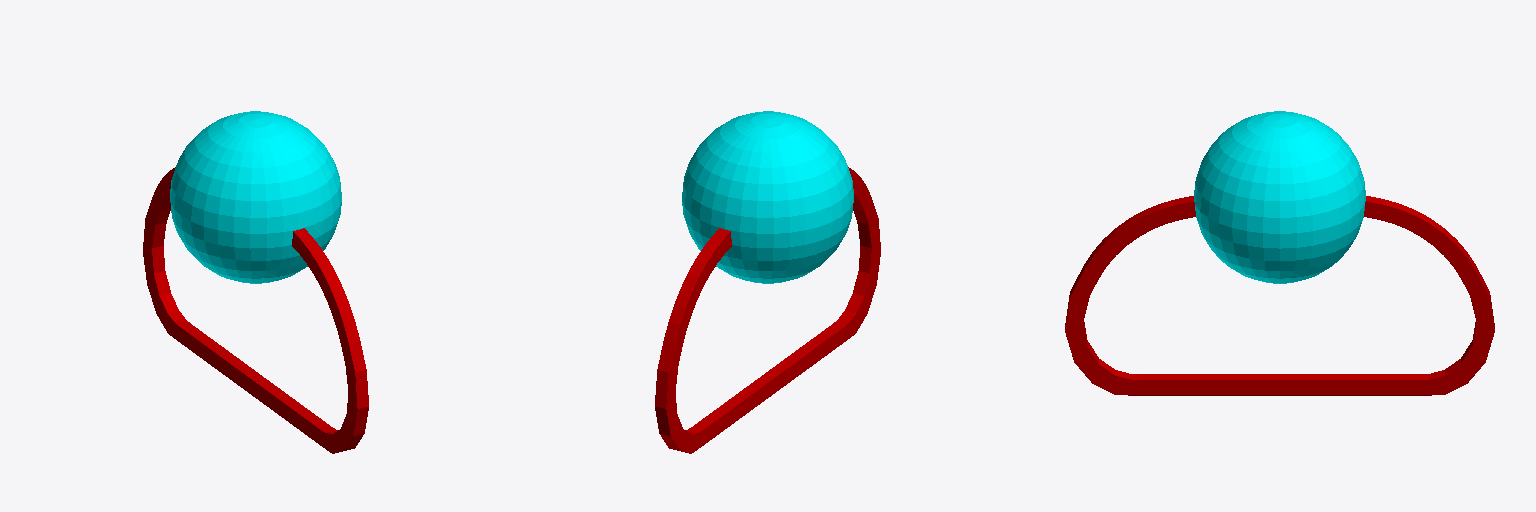
File: Elevator.obj
The picture shows the model from 3 angles: view 1: azimuth 30°, elevation 25°; view 2: azimuth 150°, elevation 25°; view 3: azimuth 270°, elevation 25°; orthographic projection.
Visible parts, largest first — view 1: 球_球.001, 立方体_立方体.002, 立方体.001_立方体.003; view 2: 球_球.001, 立方体.001_立方体.003, 立方体_立方体.002; view 3: 球_球.001, 立方体_立方体.002, 立方体.001_立方体.003.
Boxes of the visible parts, box(x1,y1,x2,y2) form: 球_球.001: box(170, 111, 341, 283); 立方体_立方体.002: box(244, 228, 368, 453); 立方体.001_立方体.003: box(143, 167, 266, 397); 球_球.001: box(682, 111, 853, 283); 立方体.001_立方体.003: box(655, 228, 778, 453); 立方体_立方体.002: box(757, 167, 880, 396); 球_球.001: box(1194, 111, 1365, 283); 立方体_立方体.002: box(1065, 196, 1290, 395); 立方体.001_立方体.003: box(1269, 196, 1494, 395).
Bounding box in the file's own units: 1 × 1.75 × 2.49.